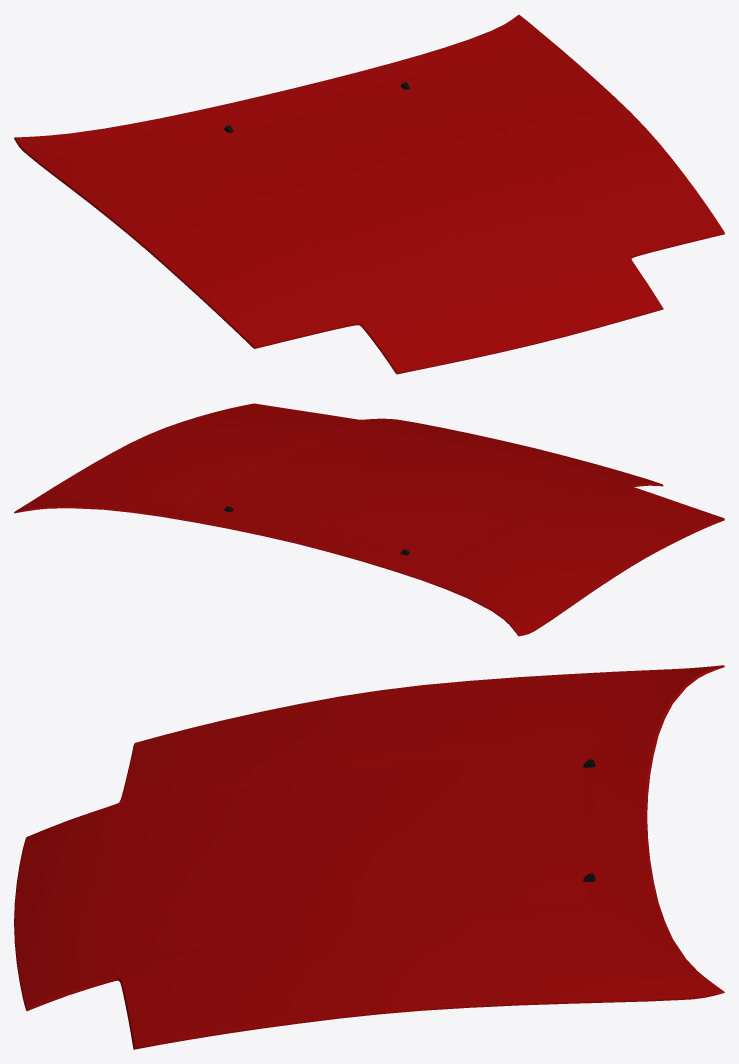
File: bonnet_oem.glb
3 renders of one model, top to bottom at view 1: azimuth 30°, elevation 25°; view 2: azimuth 150°, elevation 25°; view 3: azimuth 270°, elevation 25°, orthographic. The views are drawn at different scales.
Visible parts, largest first — view 1: bonnet; view 2: bonnet; view 3: bonnet.
Boxes of the visible parts, x1,y1,x2,y2 form: bonnet: [14, 14, 724, 374]; bonnet: [14, 403, 724, 636]; bonnet: [14, 665, 724, 1049].
Size of the model in its own units: 1.45 by 0.2267 by 1.33.
